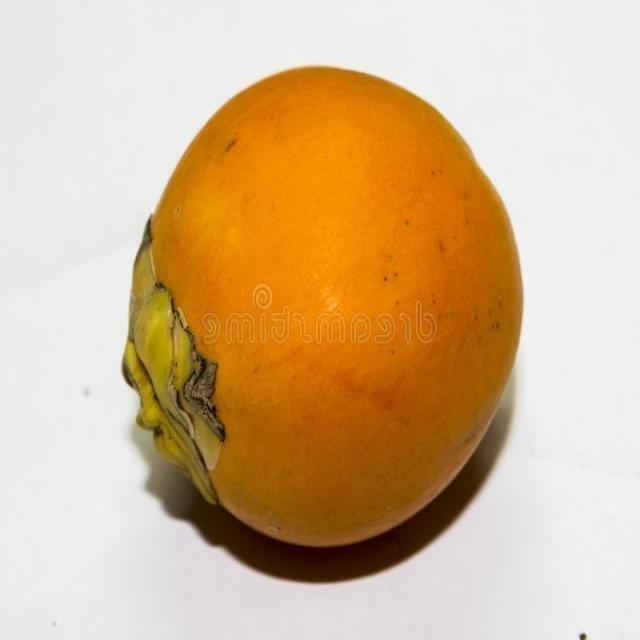good: (121, 67, 526, 551)
